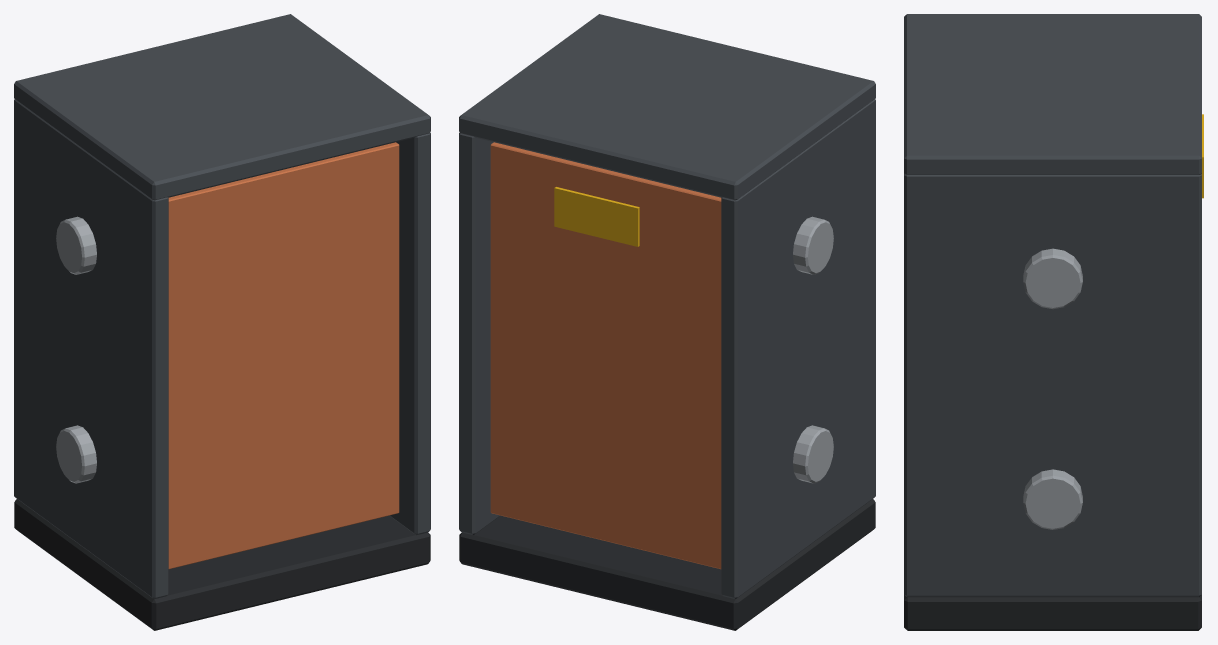
The model's file is heat_exchanger.glb.
The picture shows the model from 3 angles, left to right: view 1: azimuth 30°, elevation 25°; view 2: azimuth 150°, elevation 25°; view 3: azimuth 270°, elevation 25°; orthographic projection. The views are drawn at different scales.
Visible parts, largest first — view 1: heat_exchanger; view 2: heat_exchanger; view 3: heat_exchanger.
Boxes of the visible parts, x1,y1,x2,y2 form: heat_exchanger: (14, 14, 430, 630); heat_exchanger: (459, 14, 875, 630); heat_exchanger: (904, 14, 1203, 630).
Bounding box in the file's own units: 1 × 1.4 × 0.8.
